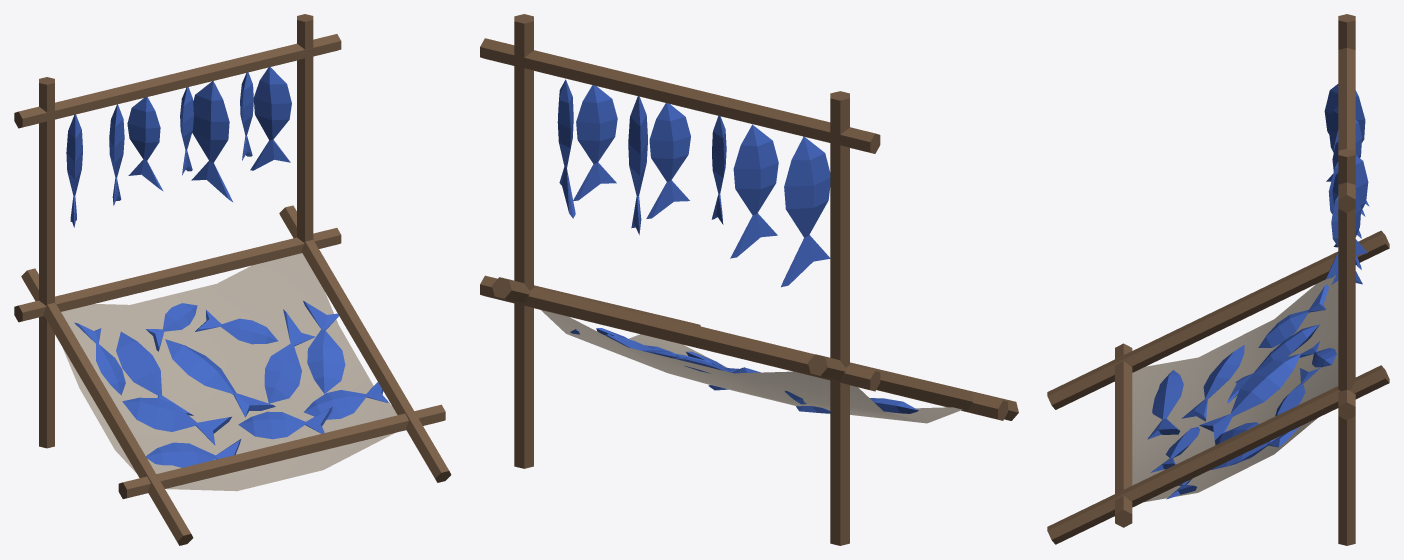
Rendered from sechoir_3.fbx.
The picture shows the model from 3 angles, left to right: view 1: azimuth 30°, elevation 25°; view 2: azimuth 150°, elevation 25°; view 3: azimuth 270°, elevation 25°; orthographic projection. The views are drawn at different scales.
Parts seen in each view (by area): view 1: pPlane1, pCylinder4, pCylinder9, pCylinder11, pCylinder10, pCylinder8, pCylinder6, pCylinder3, poisson12, poisson16, poisson27, poisson19 (+14 smaller); view 2: pCylinder3, pCylinder9, pCylinder4, pPlane1, pCylinder10, poisson8, poisson10, pCylinder8, poisson14, poisson5, poisson12, poisson16 (+3 smaller); view 3: pPlane1, pCylinder6, pCylinder8, pCylinder3, pCylinder11, pCylinder4, poisson25, poisson23, poisson2, poisson21, poisson12, poisson22 (+8 smaller).
Boxes of the visible parts, box(x1,y1,x2,y2) form: pPlane1: box(61, 253, 397, 491); pCylinder4: box(14, 34, 341, 128); pCylinder9: box(39, 77, 54, 448); pCylinder11: box(118, 404, 445, 498); pCylinder10: box(14, 228, 341, 322); pCylinder8: box(21, 268, 193, 545); pCylinder6: box(279, 205, 451, 482); pCylinder3: box(297, 14, 313, 242); poisson12: box(191, 81, 233, 202); poisson16: box(250, 67, 291, 170); poisson27: box(303, 301, 345, 393); poisson19: box(264, 309, 315, 403); pCylinder3: box(514, 14, 533, 468); pCylinder9: box(830, 91, 849, 545); pCylinder4: box(480, 38, 880, 153); pPlane1: box(541, 310, 962, 423); pCylinder10: box(480, 275, 880, 391); poisson8: box(781, 136, 830, 287); poisson10: box(730, 124, 778, 258); pCylinder8: box(808, 354, 1018, 420); poisson14: box(573, 85, 617, 201); poisson5: box(646, 103, 690, 218); poisson12: box(628, 96, 647, 234); poisson16: box(557, 79, 575, 218); pPlane1: box(1132, 275, 1338, 502); pCylinder6: box(1047, 365, 1389, 544); pCylinder8: box(1047, 230, 1389, 409); pCylinder3: box(1338, 148, 1355, 545); pCylinder11: box(1115, 343, 1132, 527); pCylinder4: box(1338, 47, 1355, 212); poisson25: box(1199, 353, 1301, 445); poisson23: box(1147, 370, 1183, 439); poisson2: box(1181, 345, 1244, 421); poisson21: box(1258, 284, 1328, 347); poisson12: box(1326, 155, 1368, 279); poisson22: box(1227, 324, 1319, 403).
Bounding box in the file's own units: 2.05 × 2.23 × 1.78.
